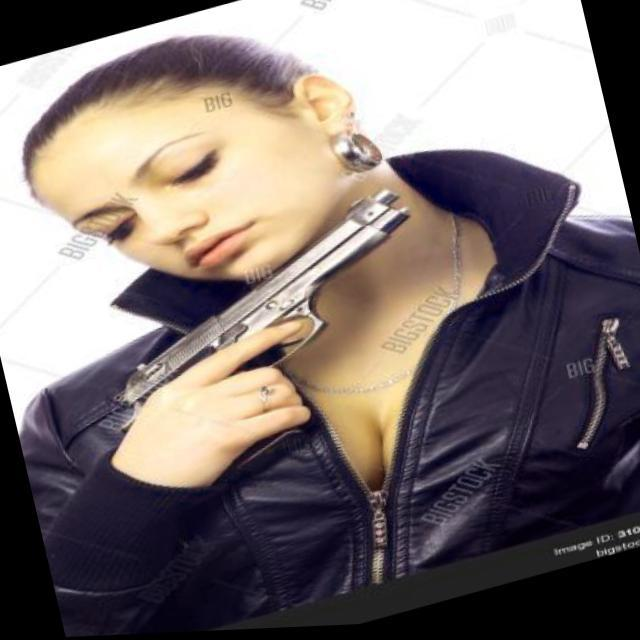weapon: (81, 180, 468, 522)
